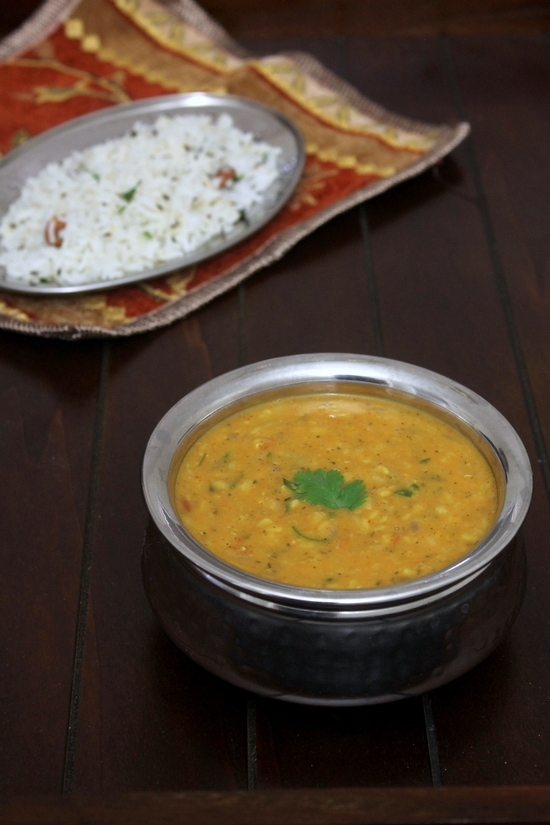plain rice: (78, 151, 217, 235)
